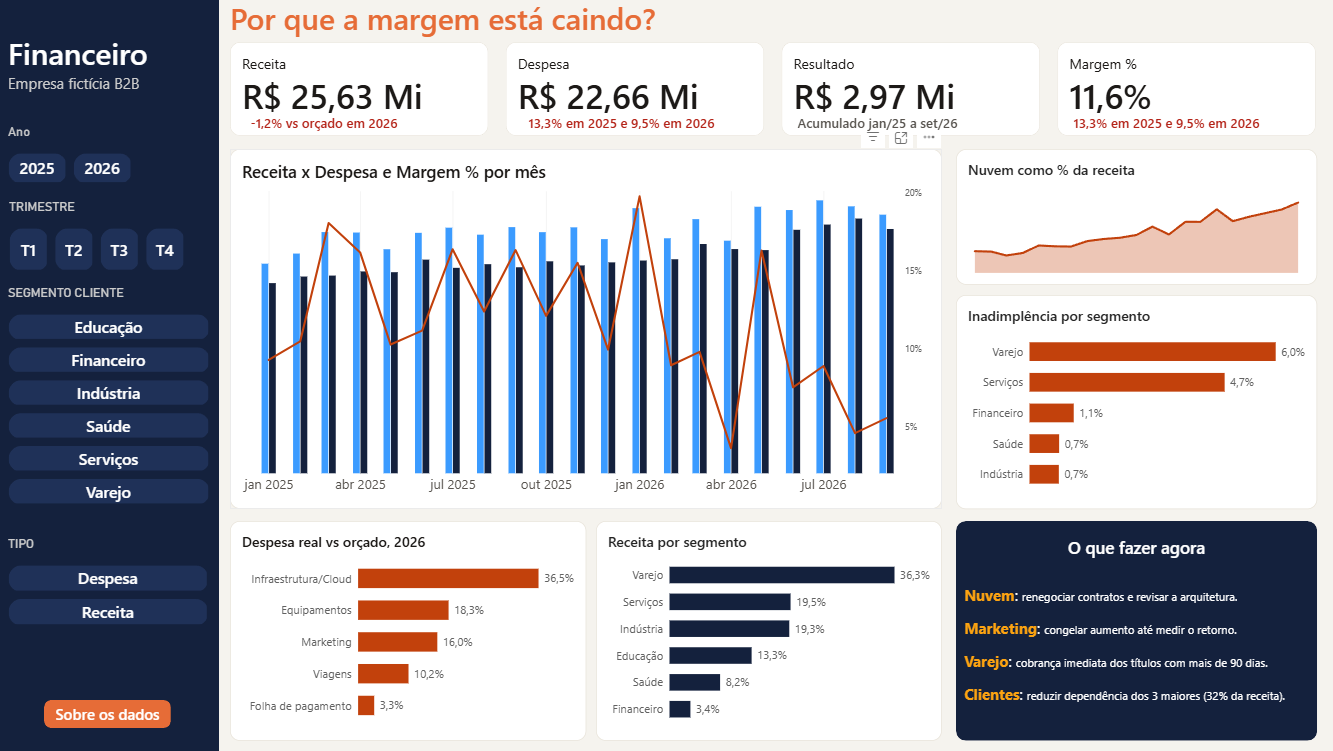

The page's visual inventory and layout, read from the dashboard file:
{"tool":"powerbi","page":{"name":"Visão Geral","canvas":[1920,1080],"ordinal":0},"visuals":[{"type":"shape","box":[0,0,315.7,1080],"z":0},{"type":"textbox","box":[331.4,0,640,62.9],"z":1000},{"type":"cardVisual","title":"Receita","fields":{"Data":["lancamentos.Receita","lancamentos.Despesa","lancamentos.Resultado","lancamentos.Margem %"]},"box":[331.4,62.9,1552.9,134.3],"z":2000},{"type":"lineClusteredColumnComboChart","title":"Receita x Despesa e Margem % por mês","fields":{"Category":["Calendario.Ano Mes"],"Y":["lancamentos.Receita","lancamentos.Despesa"],"Y2":["lancamentos.Margem %"]},"box":[331.4,215.7,1017.1,514.3],"z":3000},{"type":"lineChart","title":"Nuvem como % da receita","fields":{"Category":["Calendario.Ano Mes"],"Y":["lancamentos.Cloud % Receita"]},"box":[1368.6,215.7,515.7,194.3],"z":4000},{"type":"clusteredBarChart","title":"Inadimplência por segmento","fields":{"Category":["lancamentos.segmento_cliente"],"Y":["lancamentos.Inadimplencia %"]},"box":[1368.6,424.3,515.7,305.7],"z":5000},{"type":"barChart","title":"Despesa real vs orçado, 2026","fields":{"Category":["dim_categoria.categoria"],"Y":["lancamentos.Var Despesa vs Orcado %"]},"box":[331.4,747.1,508.6,314.3],"z":6000},{"type":"barChart","title":"Receita por segmento","fields":{"Category":["lancamentos.segmento_cliente"],"Y":["lancamentos.Receita % Total"]},"box":[854.3,747.1,494.3,314.3],"z":7000},{"type":"shape","box":[1369,747,516,314],"z":8000},{"type":"textbox","box":[1368.6,768.6,515.7,292.9],"z":9000},{"type":"advancedSlicerVisual","title":"TRIMESTRE","fields":{"Values":["Calendario.Trimestre"]},"box":[15.7,287.1,252.9,122.9],"z":10000},{"type":"textbox","box":[14.3,50,301.4,107.1],"z":10001},{"type":"advancedSlicerVisual","title":"SEGMENTO CLIENTE","fields":{"Values":["lancamentos.segmento_cliente"]},"box":[14.3,410,287.1,337.1],"z":10002},{"type":"advancedSlicerVisual","title":"TIPO","fields":{"Values":["orcamento.tipo"]},"box":[14.3,768.6,285.7,147.1],"z":10003},{"type":"advancedSlicerVisual","fields":{"Values":["Calendario.Ano"]},"box":[14.3,180,177.1,104.3],"z":10004},{"type":"cardVisual","fields":{"Data":["lancamentos.Nota Receita"]},"box":[348.6,157.1,265.7,40],"z":10005},{"type":"cardVisual","fields":{"Data":["lancamentos.Nota Margem"]},"box":[745.7,157.1,304.3,40],"z":10006},{"type":"cardVisual","fields":{"Data":["lancamentos.Nota Margem"]},"box":[1524.3,157.1,304.3,40],"z":10007},{"type":"cardVisual","fields":{"Data":["lancamentos.Nota Resultado"]},"box":[1130,157.1,304.3,40],"z":10008},{"type":"actionButton","box":[65.7,1002.9,181.4,40],"z":10009}]}

Visuals, with their boxes in screenshot pixels (x1, y1, x2, y2), scaled from the page's 1920x1080 canvas onto the 1333x751 screenshot:
shape: box(0, 0, 219, 750)
textbox: box(230, 0, 674, 44)
"Receita" cardVisual: box(230, 44, 1308, 137)
"Receita x Despesa e Margem % por mês" lineClusteredColumnComboChart: box(230, 150, 936, 508)
"Nuvem como % da receita" lineChart: box(950, 150, 1308, 285)
"Inadimplência por segmento" clusteredBarChart: box(950, 295, 1308, 508)
"Despesa real vs orçado, 2026" barChart: box(230, 520, 583, 738)
"Receita por segmento" barChart: box(593, 520, 936, 738)
shape: box(950, 519, 1309, 738)
textbox: box(950, 534, 1308, 738)
"TRIMESTRE" advancedSlicerVisual: box(11, 200, 186, 285)
textbox: box(10, 35, 219, 109)
"SEGMENTO CLIENTE" advancedSlicerVisual: box(10, 285, 209, 520)
"TIPO" advancedSlicerVisual: box(10, 534, 208, 637)
advancedSlicerVisual - Calendario.Ano: box(10, 125, 133, 198)
cardVisual - lancamentos.Nota Receita: box(242, 109, 426, 137)
cardVisual - lancamentos.Nota Margem: box(518, 109, 729, 137)
cardVisual - lancamentos.Nota Margem: box(1058, 109, 1270, 137)
cardVisual - lancamentos.Nota Resultado: box(785, 109, 996, 137)
actionButton: box(46, 697, 172, 725)
